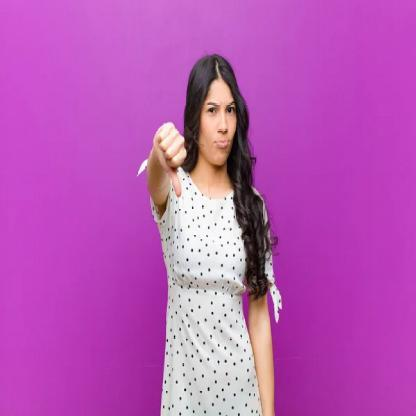thumb_down: (152, 112, 190, 199)
